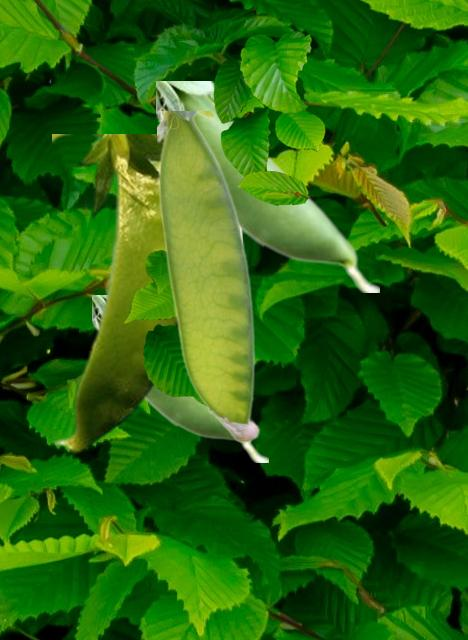pea: (156, 81, 378, 291), (52, 134, 175, 452), (157, 111, 259, 441), (92, 295, 267, 461)
